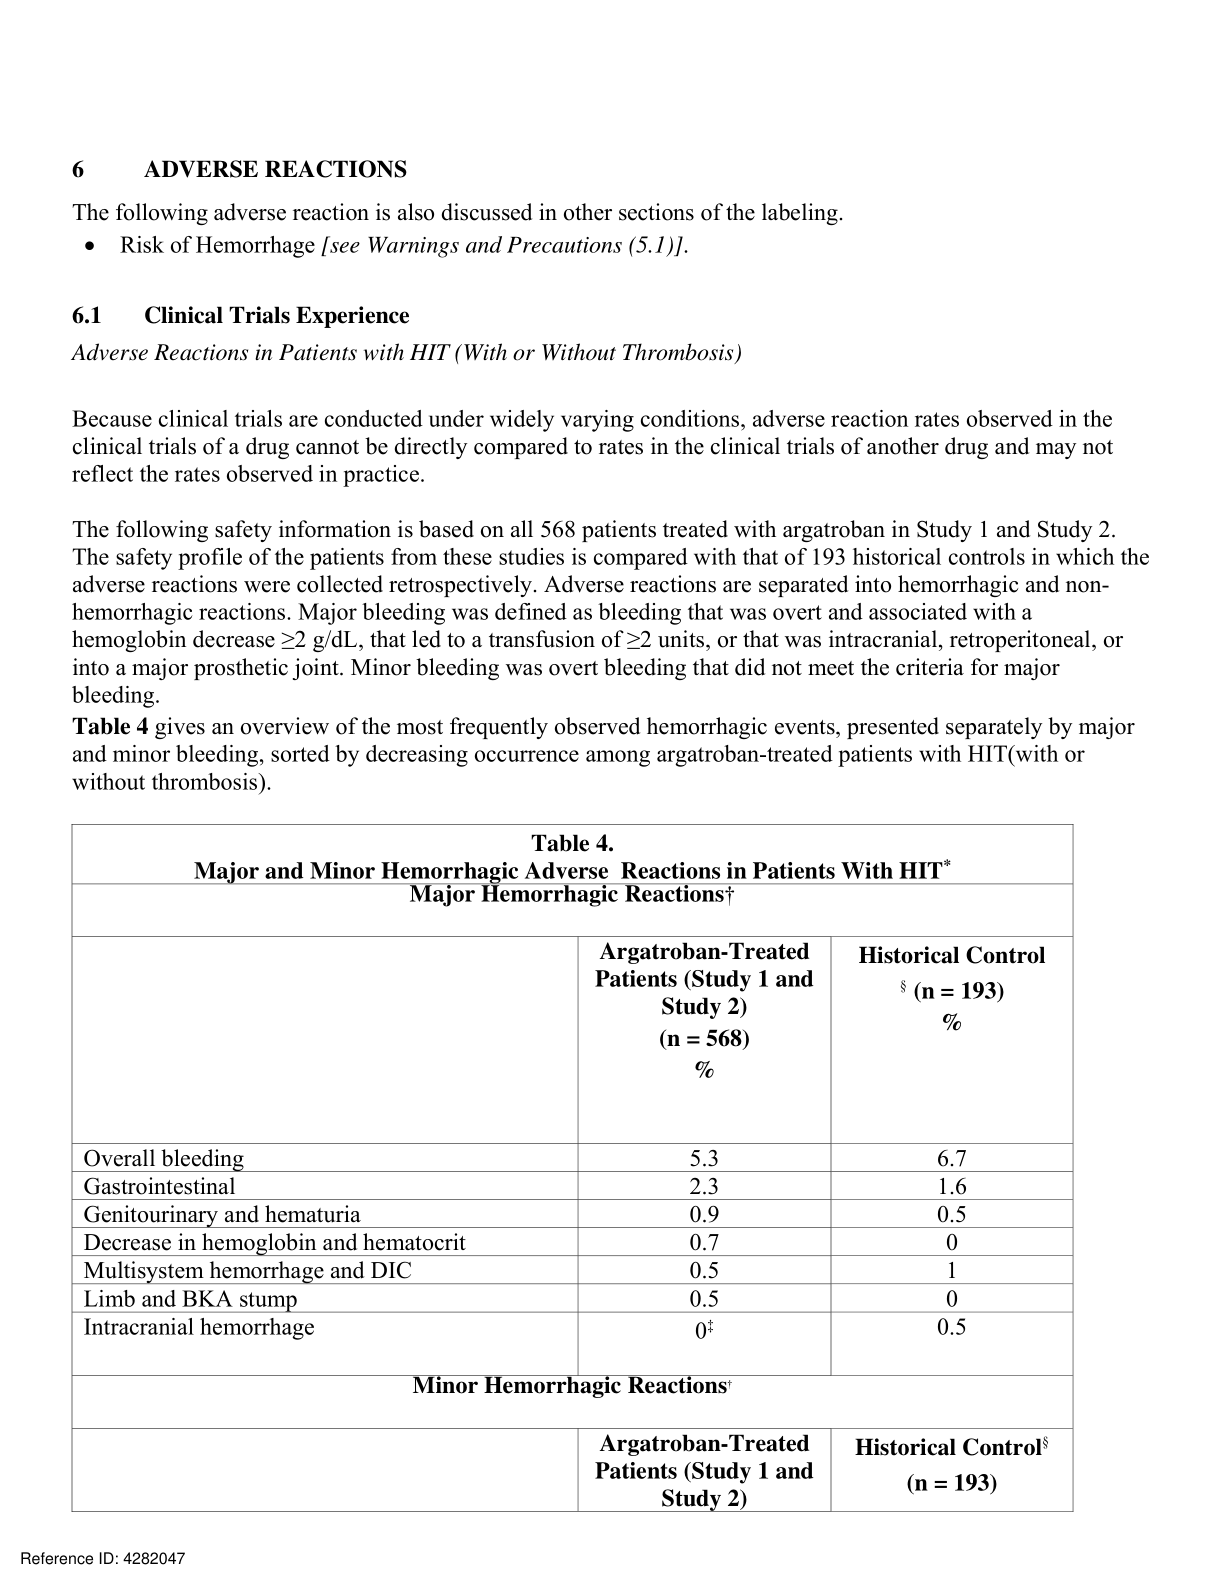partial_lined_merged_cells: (69, 822, 1074, 1513)
